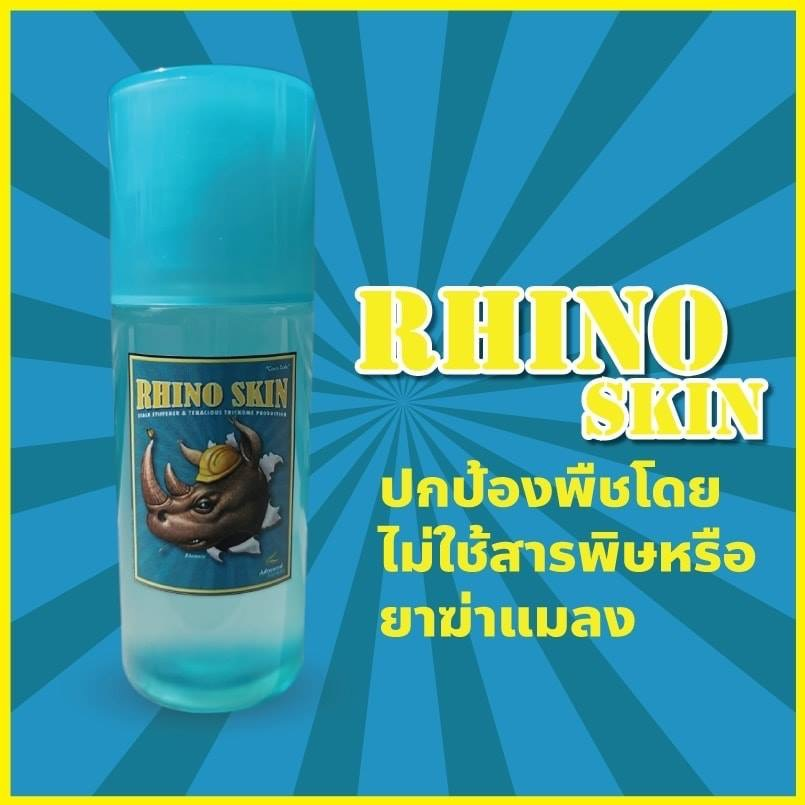Insecticide: (98, 59, 320, 724)
